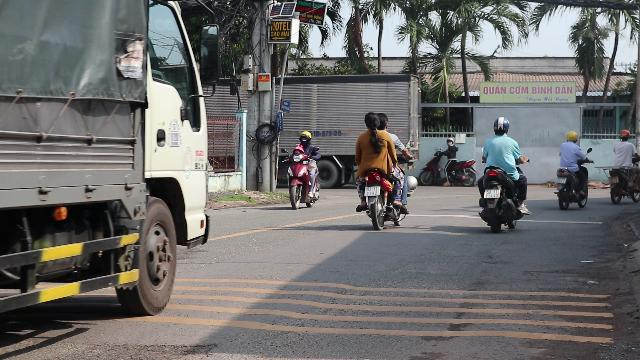helmet: (363, 112, 383, 131), (298, 131, 312, 145)
licenseplate: (492, 117, 510, 135), (364, 187, 380, 195), (484, 190, 500, 198)
motorcyclist: (351, 111, 411, 229), (474, 117, 530, 231), (284, 130, 322, 210)
